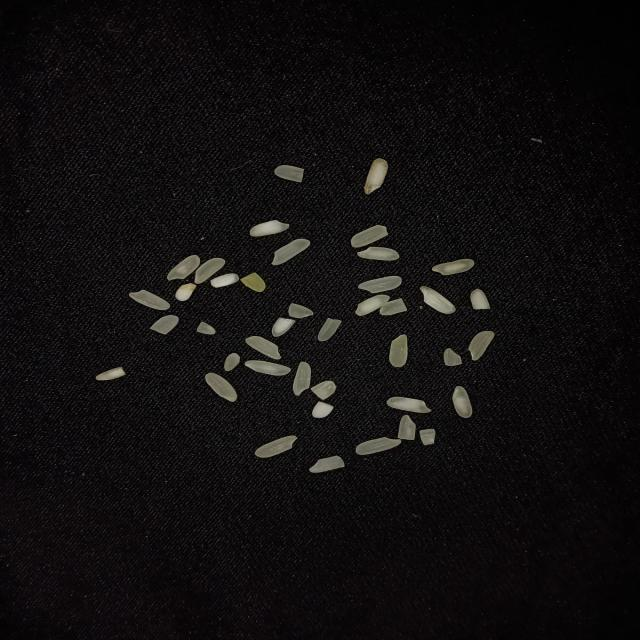Broken: (351, 225, 388, 248), (310, 456, 346, 473), (240, 272, 268, 293), (150, 315, 179, 335), (318, 317, 341, 342), (275, 164, 305, 183), (380, 298, 408, 317), (310, 380, 336, 400), (272, 316, 296, 337), (398, 414, 416, 441), (470, 288, 491, 310), (175, 282, 197, 302), (210, 273, 239, 288), (95, 367, 126, 381), (288, 303, 315, 318), (312, 401, 334, 418), (443, 348, 462, 366), (420, 428, 438, 446), (224, 351, 240, 371), (197, 321, 216, 335)
Full: (420, 285, 457, 314), (271, 238, 310, 265), (203, 372, 238, 402), (254, 435, 297, 458), (363, 158, 389, 195), (166, 255, 201, 281), (194, 257, 226, 285), (128, 290, 171, 310), (356, 436, 402, 454), (245, 336, 282, 358), (385, 396, 432, 413), (358, 275, 402, 293), (356, 294, 390, 317), (468, 331, 494, 361), (245, 360, 291, 376), (432, 259, 476, 275), (453, 385, 474, 418), (250, 219, 289, 236), (389, 334, 408, 368), (293, 361, 311, 396), (356, 247, 400, 260)
